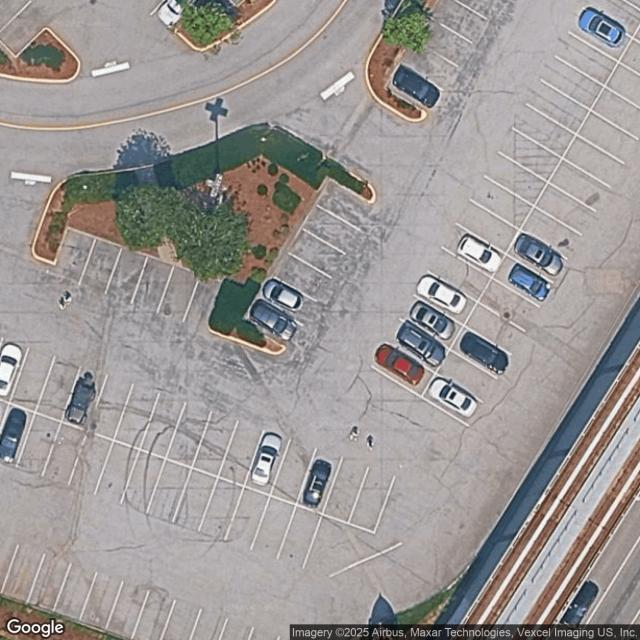car: (452, 326, 514, 374), (411, 270, 473, 318), (403, 296, 465, 344), (368, 340, 429, 388), (422, 373, 483, 421), (389, 321, 450, 369), (388, 63, 446, 112), (244, 297, 303, 345), (511, 232, 568, 280), (63, 370, 104, 430), (504, 260, 557, 306), (454, 232, 507, 278), (574, 4, 627, 49), (258, 274, 311, 317), (247, 431, 286, 488), (299, 454, 337, 508), (0, 406, 31, 468), (0, 338, 26, 401)
lot_boundary: (0, 0, 639, 640)
objects: (30, 122, 374, 354), (365, 0, 439, 119)
stall: (478, 278, 543, 333), (520, 206, 585, 261), (464, 302, 528, 357), (469, 175, 533, 230), (514, 104, 578, 159), (435, 350, 500, 404), (421, 374, 486, 428), (456, 200, 521, 254), (442, 224, 507, 278), (413, 270, 478, 324), (399, 295, 464, 349), (371, 343, 436, 397), (534, 183, 599, 237), (483, 152, 548, 206), (575, 111, 640, 165), (541, 55, 606, 109), (570, 7, 635, 61), (428, 247, 492, 301), (385, 319, 449, 373), (493, 256, 557, 310), (450, 326, 514, 380), (506, 231, 570, 285), (548, 159, 612, 213), (498, 128, 562, 182), (562, 135, 626, 189), (528, 82, 592, 136), (555, 32, 619, 86), (61, 364, 107, 431), (218, 421, 263, 487), (245, 429, 290, 495), (323, 457, 368, 523), (349, 467, 394, 533), (115, 384, 160, 450), (88, 376, 133, 442), (36, 356, 81, 422), (43, 422, 88, 488), (193, 412, 238, 478), (166, 402, 211, 468), (146, 459, 191, 525), (95, 441, 140, 507), (68, 432, 113, 498), (251, 495, 296, 561), (198, 478, 243, 544), (140, 393, 185, 458), (272, 438, 317, 503), (296, 448, 341, 513), (121, 450, 166, 515), (225, 487, 270, 552), (172, 469, 217, 534), (277, 505, 322, 570), (12, 347, 56, 413), (418, 19, 476, 69), (16, 414, 60, 479), (288, 229, 345, 278), (258, 275, 315, 324), (303, 206, 360, 255), (316, 181, 373, 229), (272, 253, 329, 301), (404, 43, 461, 91), (388, 65, 445, 113), (590, 86, 639, 140), (130, 255, 174, 313), (156, 264, 200, 322), (79, 238, 123, 296), (0, 545, 44, 603), (27, 554, 71, 612), (53, 563, 97, 621), (105, 582, 149, 640), (246, 297, 299, 345), (51, 230, 95, 287), (105, 245, 148, 303), (79, 573, 122, 630), (433, 0, 489, 43), (181, 273, 222, 328), (0, 404, 35, 466), (585, 0, 639, 38), (133, 593, 174, 639), (0, 341, 29, 402), (160, 602, 201, 639), (607, 63, 639, 108), (190, 610, 227, 639)
